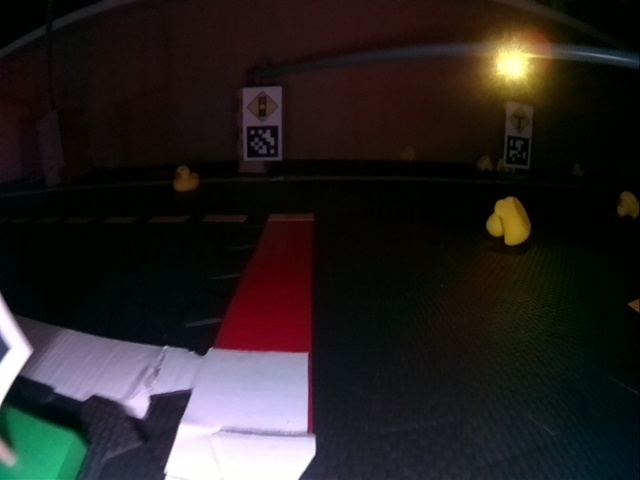Duckie: (487, 197, 530, 245), (174, 166, 198, 191), (619, 191, 638, 218), (477, 156, 491, 171), (571, 163, 583, 175), (402, 148, 412, 160)
Intersection sign: (508, 105, 531, 134)
QR code: (247, 125, 278, 158), (508, 135, 529, 168)
Signal sign: (247, 89, 278, 122)
Traffic light: (494, 39, 531, 82)
